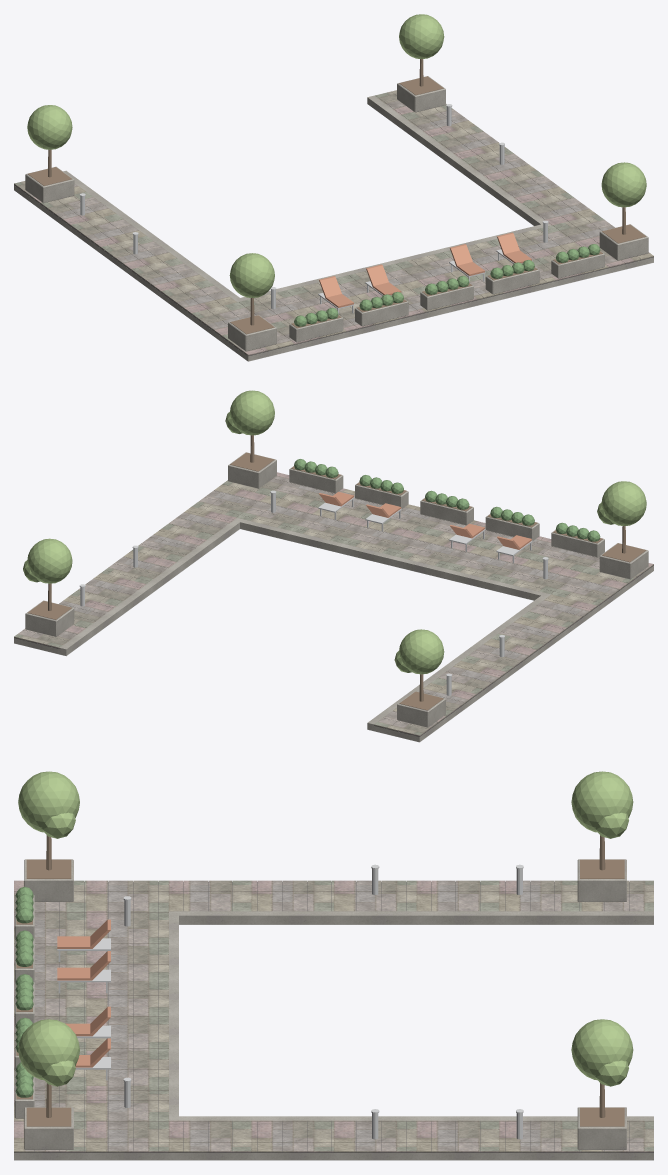
File: terrace.glb
The picture shows the model from 3 angles, top to bottom: view 1: azimuth 30°, elevation 25°; view 2: azimuth 150°, elevation 25°; view 3: azimuth 270°, elevation 25°; orthographic projection. The views are drawn at different scales.
Parts seen in each view (by area): view 1: terrace_paver, terrace_concrete, terrace_leaf2, terrace_hedge, terrace_mulch, terrace_fabric2, terrace_steel, terrace_dark, terrace_ceil; view 2: terrace_paver, terrace_concrete, terrace_leaf2, terrace_hedge, terrace_mulch, terrace_steel, terrace_fabric2, terrace_ceil; view 3: terrace_paver, terrace_concrete, terrace_leaf2, terrace_mulch, terrace_dark, terrace_hedge, terrace_fabric2, terrace_steel, terrace_ceil, terrace_bark.
Part boxes in pixels (x1=…): terrace_paver: x1=14, y1=90, x2=653, y2=355; terrace_concrete: x1=14, y1=76, x2=653, y2=361; terrace_leaf2: x1=27, y1=14, x2=646, y2=297; terrace_hedge: x1=294, y1=244, x2=600, y2=326; terrace_mulch: x1=28, y1=76, x2=646, y2=334; terrace_fabric2: x1=319, y1=232, x2=531, y2=307; terrace_steel: x1=79, y1=104, x2=548, y2=314; terrace_dark: x1=14, y1=184, x2=653, y2=356; terrace_ceil: x1=14, y1=104, x2=653, y2=361; terrace_paver: x1=14, y1=472, x2=653, y2=736; terrace_concrete: x1=14, y1=452, x2=653, y2=742; terrace_leaf2: x1=23, y1=390, x2=646, y2=674; terrace_hedge: x1=294, y1=459, x2=600, y2=541; terrace_mulch: x1=28, y1=452, x2=646, y2=710; terrace_steel: x1=79, y1=490, x2=548, y2=695; terrace_fabric2: x1=319, y1=491, x2=531, y2=549; terrace_ceil: x1=14, y1=529, x2=653, y2=742; terrace_paver: x1=14, y1=880, x2=653, y2=1152; terrace_concrete: x1=14, y1=859, x2=653, y2=1159; terrace_leaf2: x1=18, y1=771, x2=633, y2=1086; terrace_mulch: x1=16, y1=859, x2=624, y2=1126; terrace_dark: x1=14, y1=882, x2=653, y2=1152; terrace_hedge: x1=15, y1=886, x2=33, y2=1097; terrace_fabric2: x1=57, y1=919, x2=110, y2=1067; terrace_steel: x1=57, y1=864, x2=523, y2=1139; terrace_ceil: x1=14, y1=924, x2=653, y2=1160; terrace_bark: x1=46, y1=835, x2=605, y2=1117.
Size of the model in its own units: 15.8 by 3.4 by 15.5.
11 materials, 2 textured.
